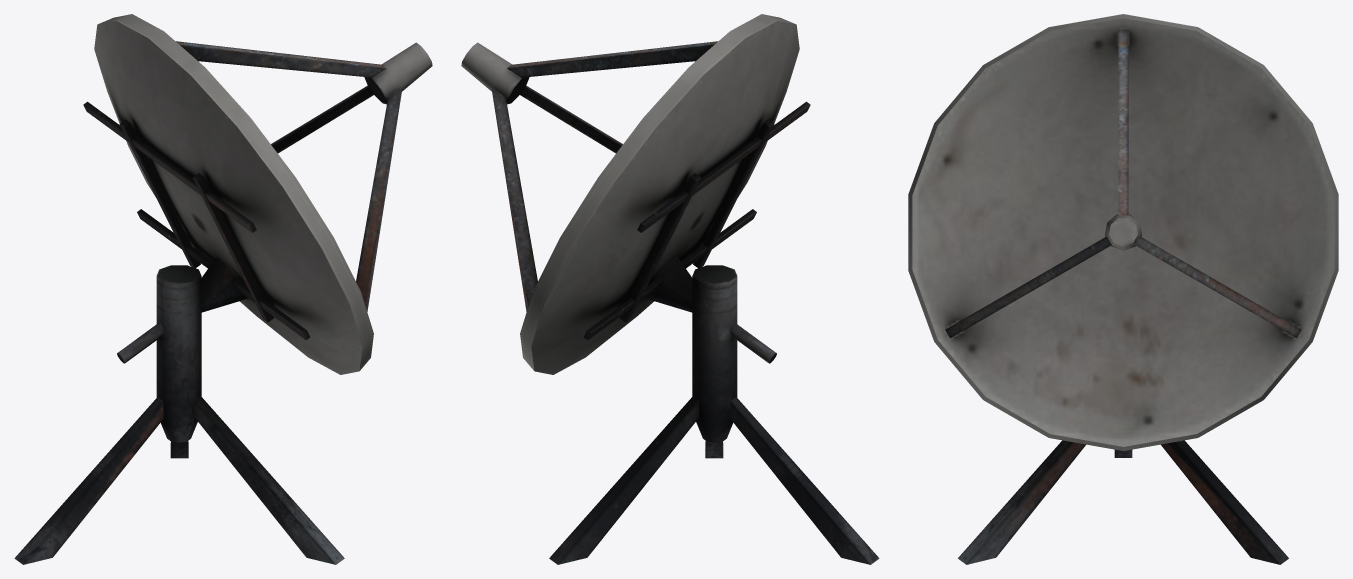
Rendered from Dish_Antenna.FBX.
3 renders of one model, left to right at view 1: azimuth 30°, elevation 25°; view 2: azimuth 150°, elevation 25°; view 3: azimuth 270°, elevation 25°, orthographic.
Visible parts, largest first — view 1: Dish_Antenna; view 2: Dish_Antenna; view 3: Dish_Antenna.
Part boxes in pixels (box(x1,y1,x2,y2)): Dish_Antenna: box(14, 14, 432, 564); Dish_Antenna: box(461, 14, 879, 564); Dish_Antenna: box(908, 14, 1338, 564).
Size of the model in its own units: 146 by 168 by 132.
Materials: 1 (1 with a texture image).
